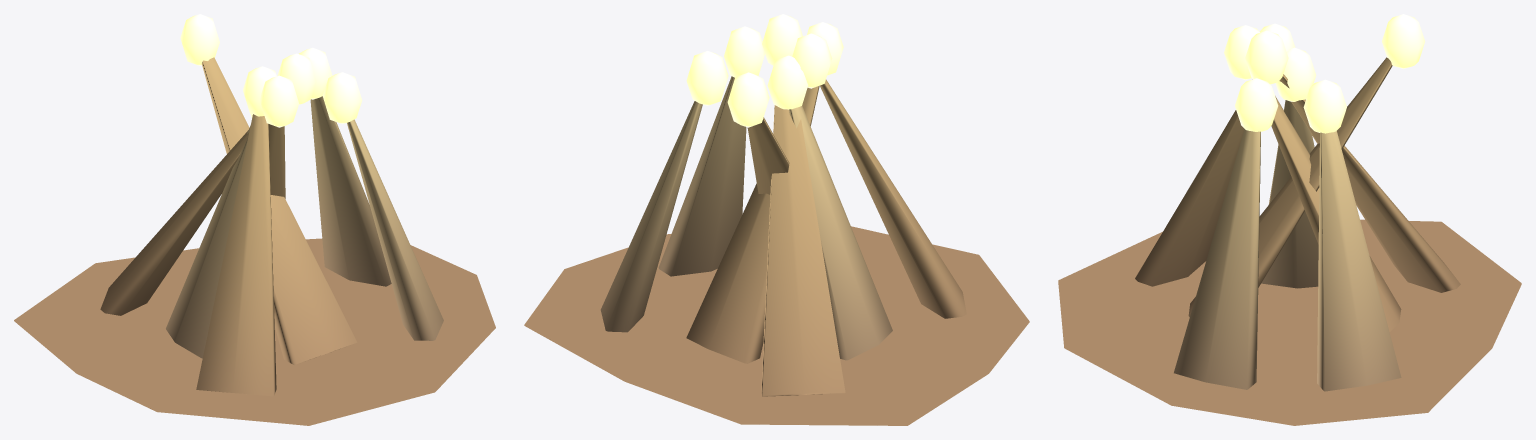
The model's file is tall_grass_dry.glb.
The picture shows the model from 3 angles, left to right: view 1: azimuth 30°, elevation 25°; view 2: azimuth 150°, elevation 25°; view 3: azimuth 270°, elevation 25°; orthographic projection. The views are drawn at different scales.
Visible parts, largest first — view 1: Blades; view 2: Blades; view 3: Blades.
Part boxes in pixels (<box>): Blades: <box>14,14,495,425</box>; Blades: <box>524,14,1029,425</box>; Blades: <box>1058,14,1521,425</box>.
Bounding box in the file's own units: 0.7648 × 0.5307 × 0.7246.
